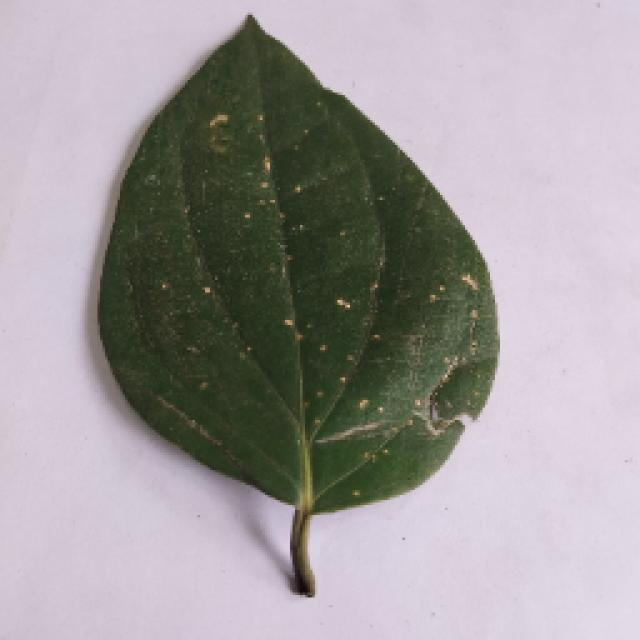pollu-disease: (93, 15, 495, 590)
